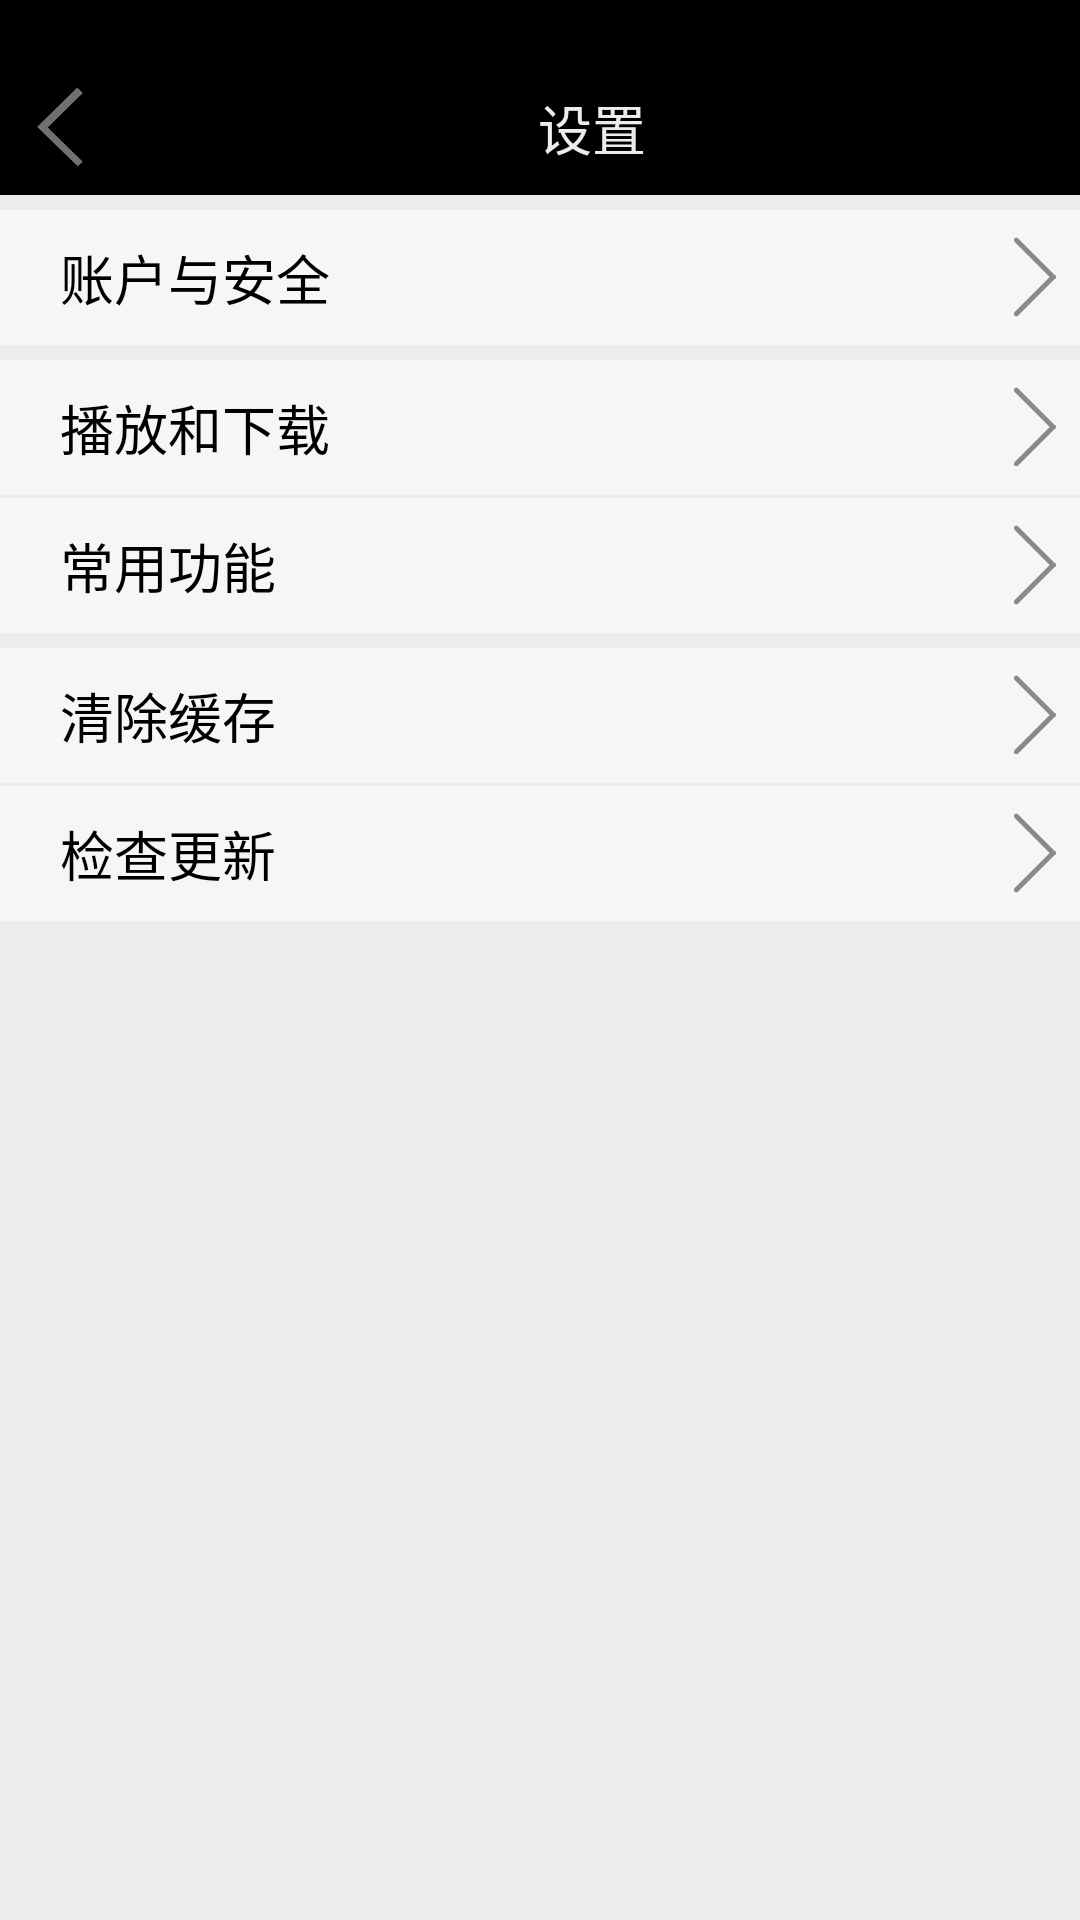

Named icons in this screenshot (1080x1920) and their bounding boxes, {"x1": x1, "y1": y1, "x2": x2, "y2": y2}:
leftdir: {"x1": 37, "y1": 88, "x2": 83, "y2": 166}
rightdir: {"x1": 1014, "y1": 237, "x2": 1056, "y2": 316}, {"x1": 1014, "y1": 387, "x2": 1056, "y2": 466}, {"x1": 1014, "y1": 525, "x2": 1056, "y2": 604}, {"x1": 1014, "y1": 675, "x2": 1056, "y2": 754}, {"x1": 1014, "y1": 813, "x2": 1056, "y2": 892}
